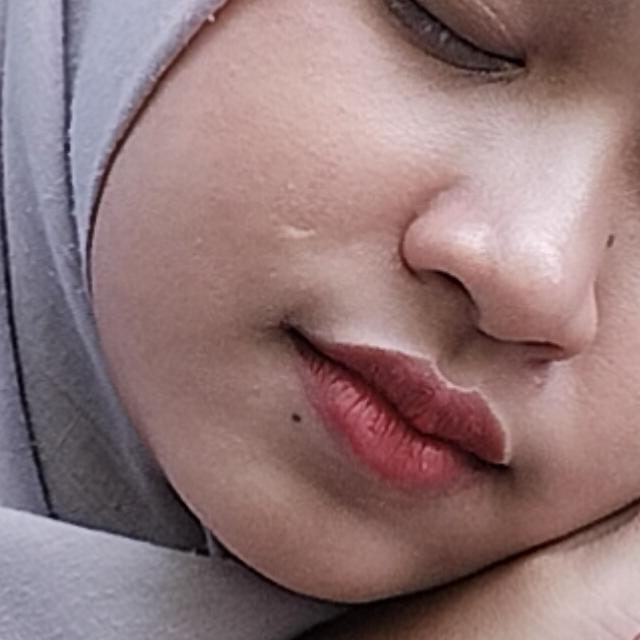tidur: (56, 158, 640, 640)
